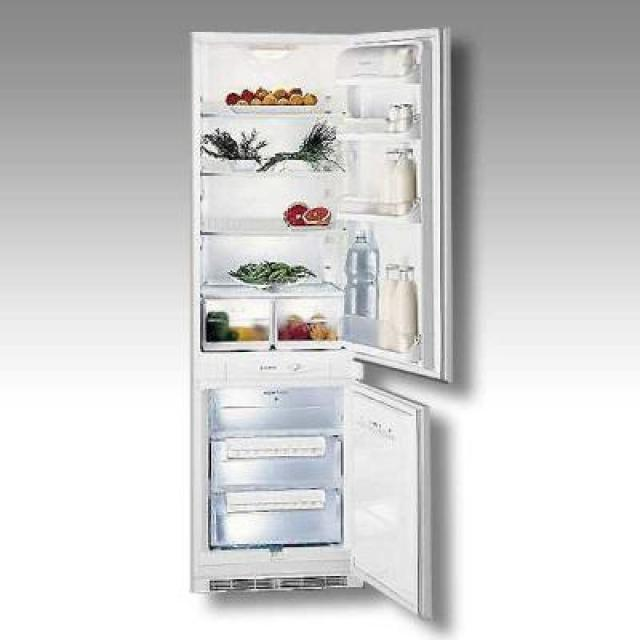refrigerator: (188, 29, 430, 598)
